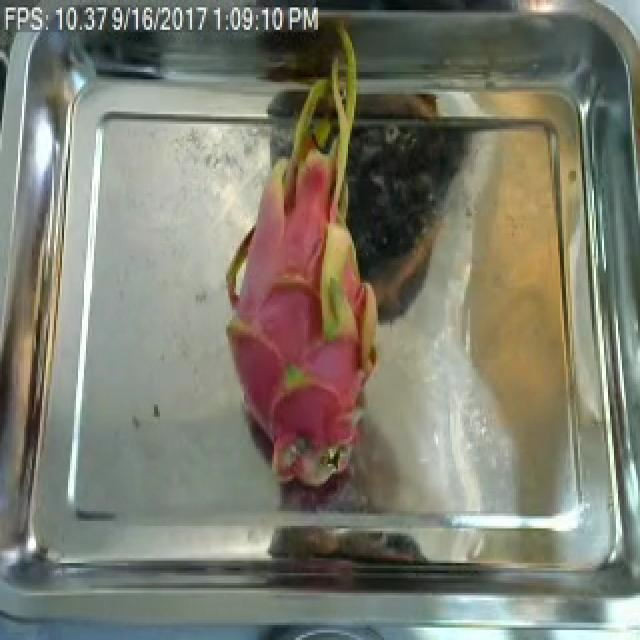fruit: (212, 44, 400, 468)
